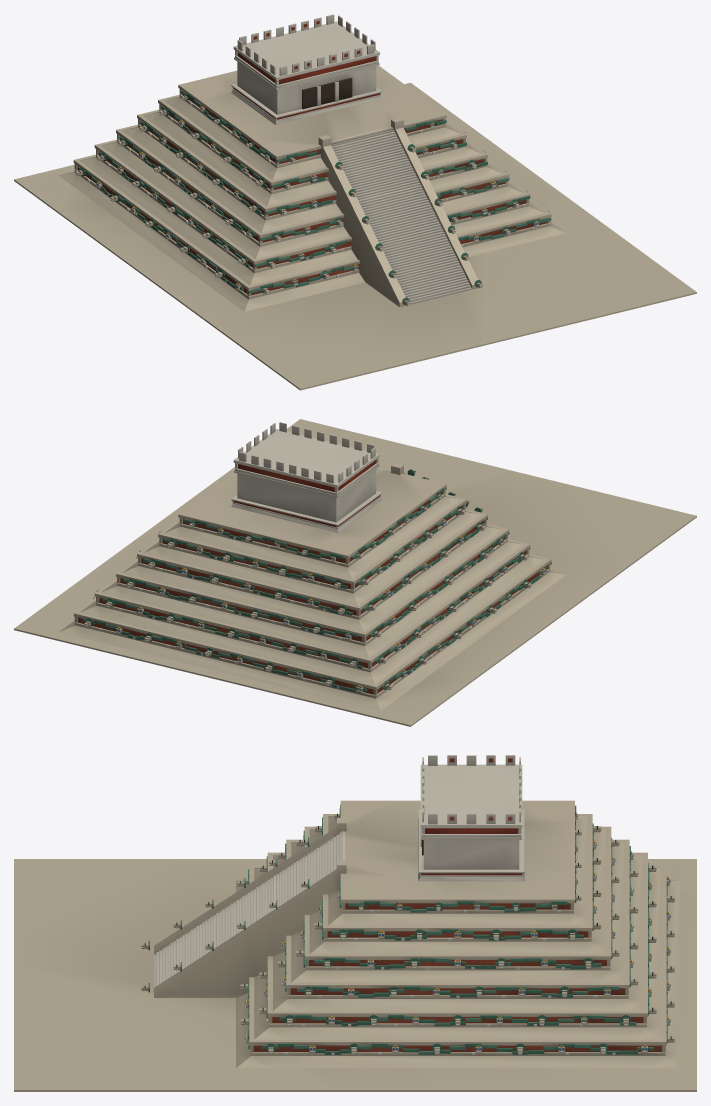
The model's file is temple-of-the-feathered-serpent.glb.
The picture shows the model from 3 angles, top to bottom: view 1: azimuth 30°, elevation 25°; view 2: azimuth 150°, elevation 25°; view 3: azimuth 270°, elevation 25°; orthographic projection. The views are drawn at different scales.
Visible parts, largest first — view 1: p1_pyramid, p0_ground, p2_temple; view 2: p1_pyramid, p0_ground, p2_temple; view 3: p1_pyramid, p0_ground, p2_temple.
Part boxes in pixels (bbox=[...]): p1_pyramid: bbox=[58, 65, 566, 311]; p0_ground: bbox=[14, 82, 696, 390]; p2_temple: bbox=[231, 14, 482, 307]; p1_pyramid: bbox=[58, 467, 566, 710]; p0_ground: bbox=[14, 419, 696, 726]; p2_temple: bbox=[231, 422, 482, 532]; p1_pyramid: bbox=[236, 800, 679, 1068]; p0_ground: bbox=[14, 859, 696, 1091]; p2_temple: bbox=[141, 755, 524, 997].
Bounding box in the file's own units: 80 × 30.96 × 100.
